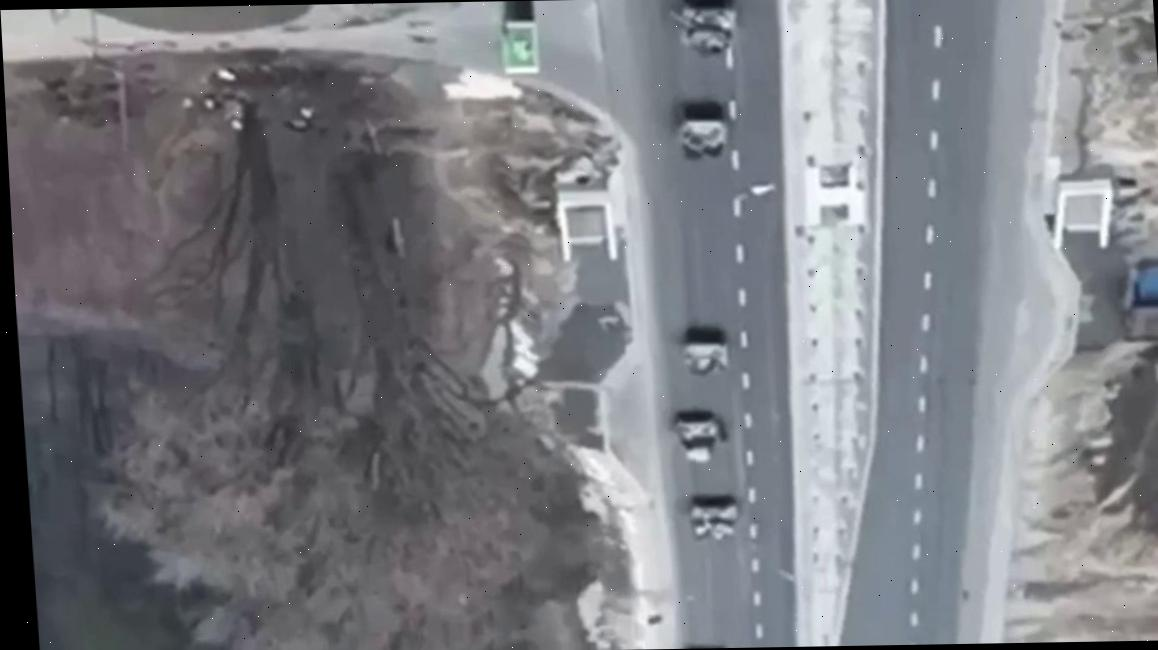tank: (667, 0, 739, 59), (676, 108, 728, 161), (675, 414, 723, 462), (687, 498, 740, 541), (681, 332, 730, 376)
